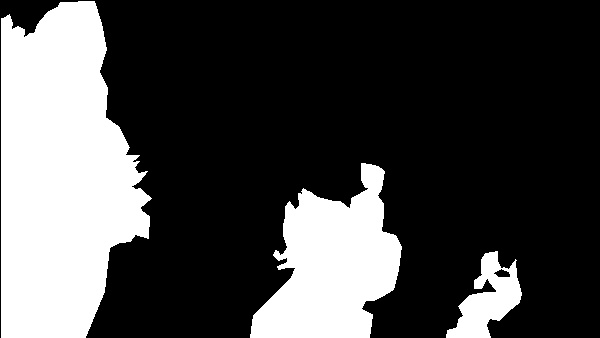Fire: (1, 17, 124, 254), (268, 167, 393, 338), (450, 244, 524, 338)
